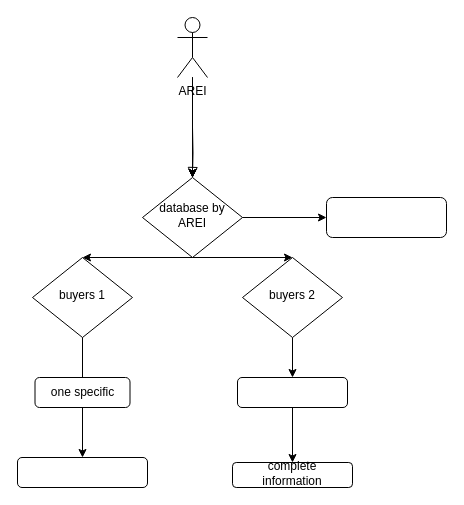
This 464x505 diagram has some shape labels left out. The shapes that lost their labels are listed below. From the top down, each one's centre as x and y in pixels, then its label:
At pixel 386 217: "CMLS".
At pixel 292 392: "meets their needs".
At pixel 82 472: "print information".
